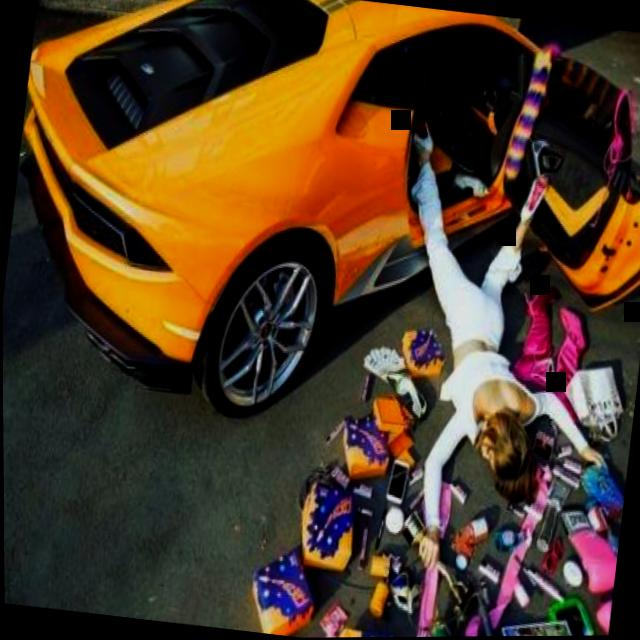Fall-Detected: (347, 81, 632, 584)
